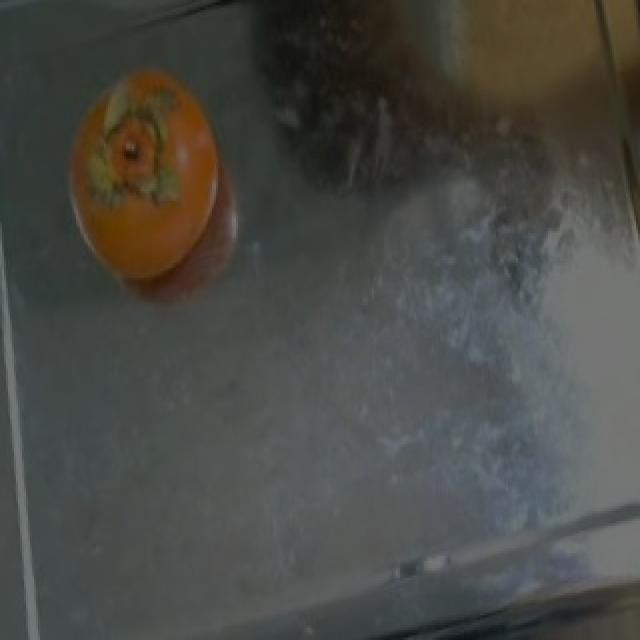Fruit: (56, 50, 240, 292)
